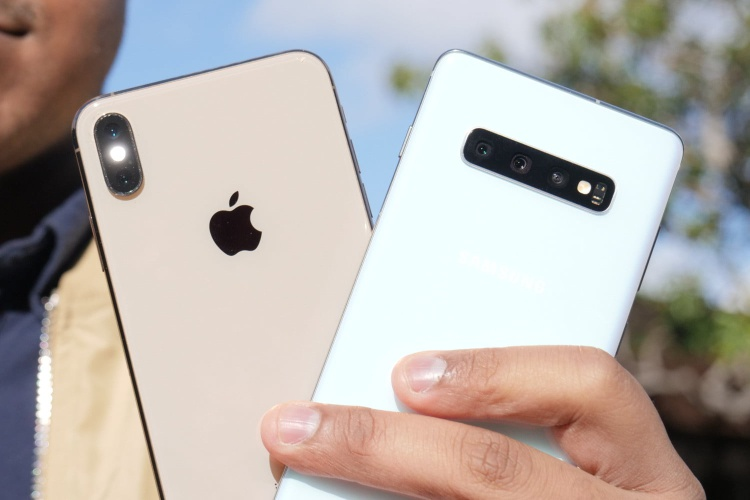apple: (197, 181, 276, 277)
